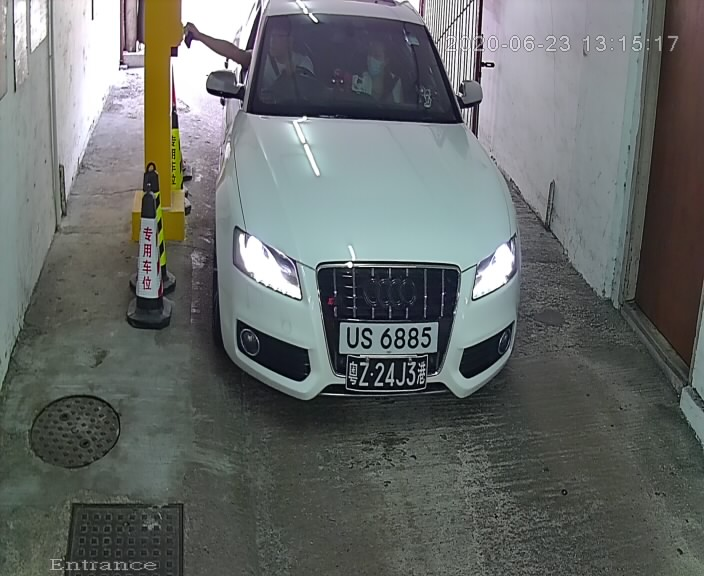privatecar: (198, 2, 543, 424)
